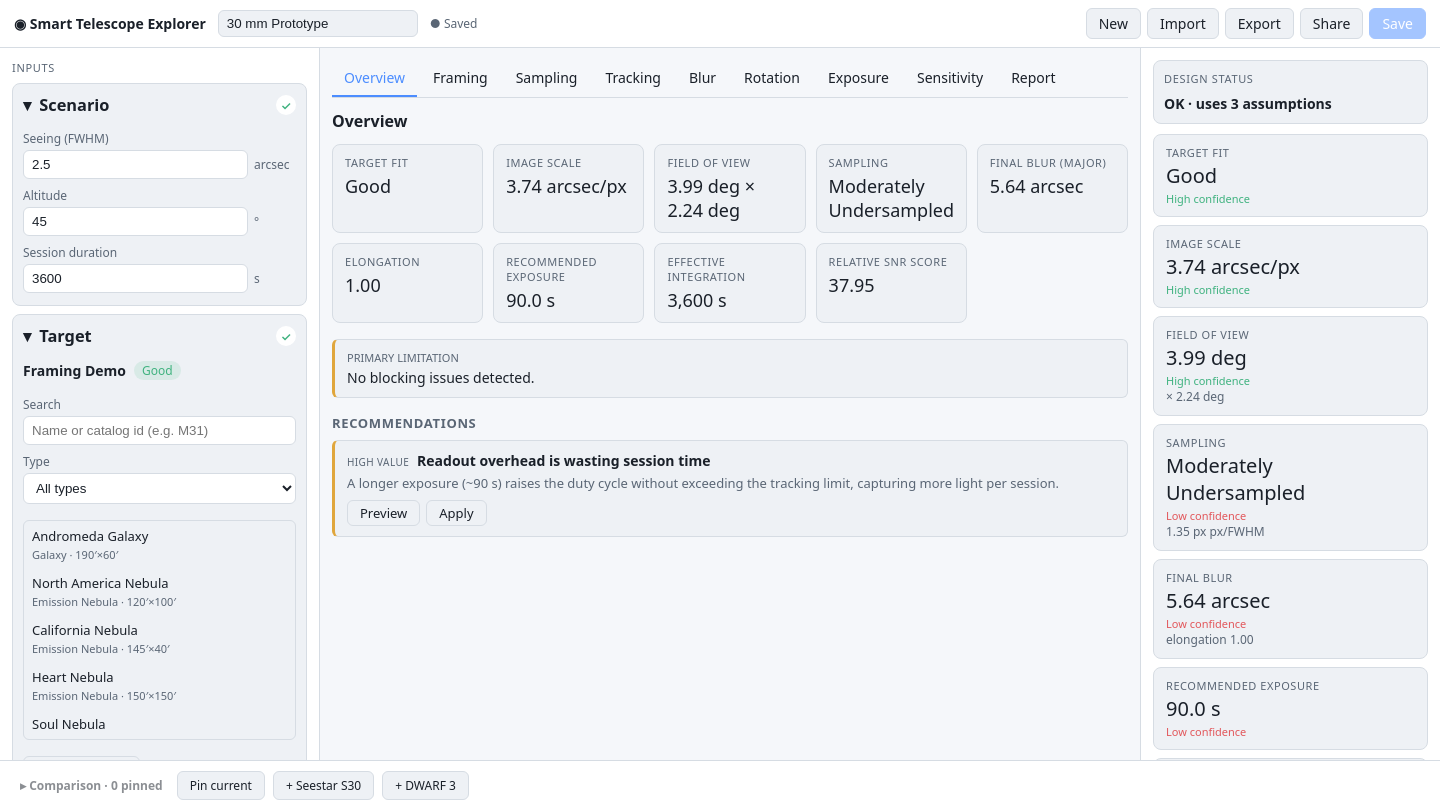
Test: target browser (#5, spec v0.7 §8/§23) › searches the catalog and selects a catalog target
The image size is (1440, 810).
Expected: the text "Andromeda Galaxy" is shown, [32, 527, 148, 545]
Search narrows by name/alias/id.
Type "M31" into the search field with placeholder "Name or catalog id (e.g. M31)" at (160, 430), box [23, 416, 296, 445]
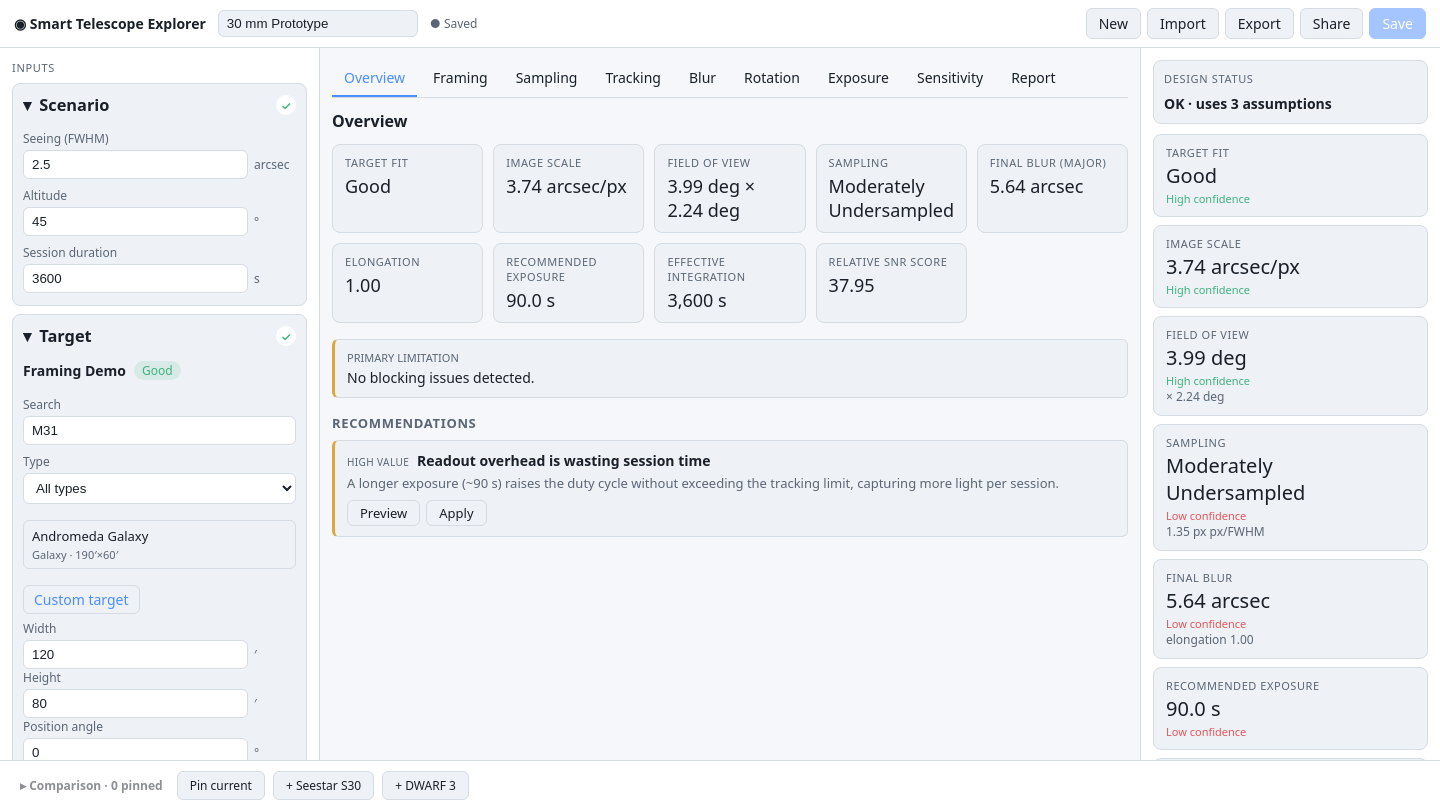
Click the text "Andromeda Galaxy" at (90, 536), box [32, 527, 148, 545]
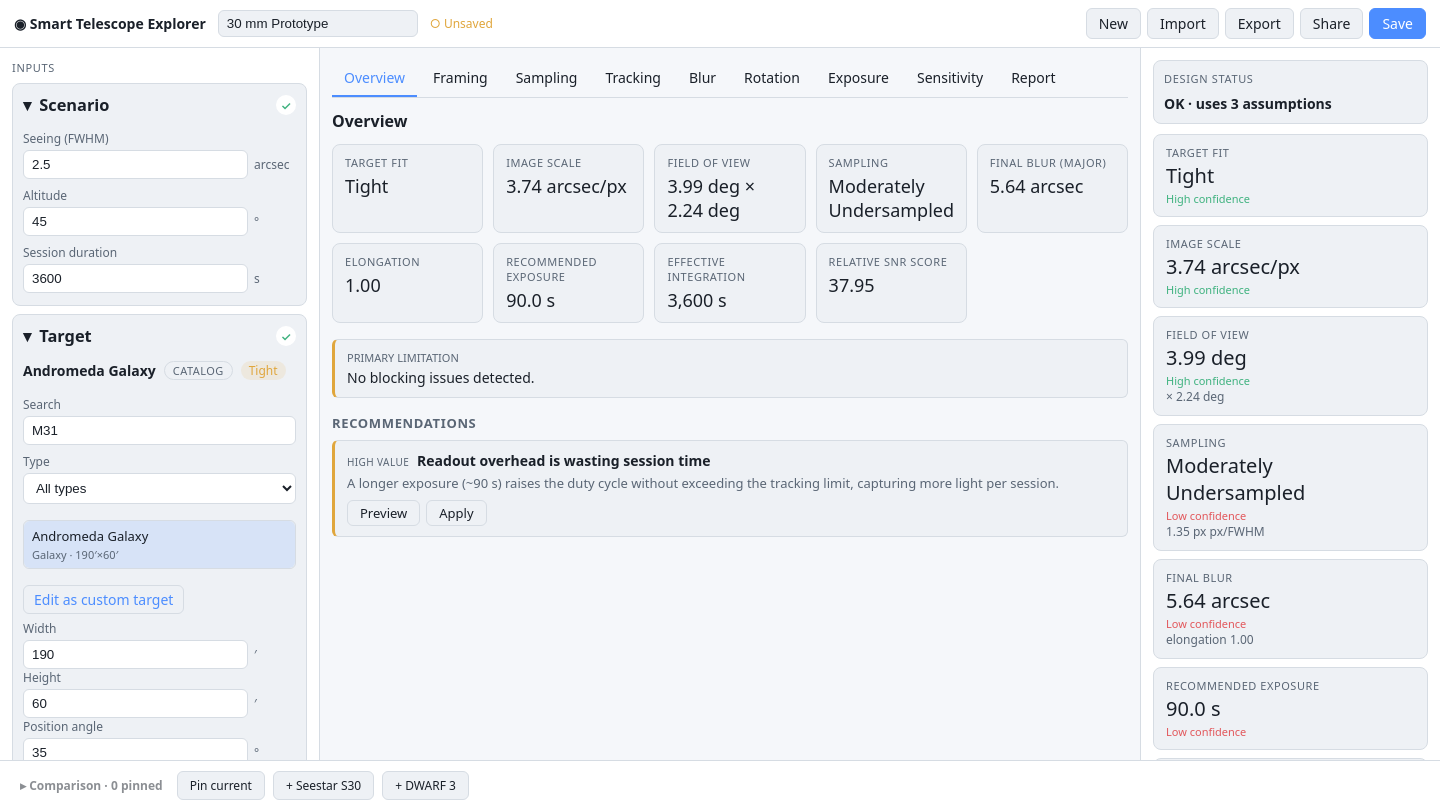
Expected: the text "Target fit" below "OK" is shown, [1166, 145, 1229, 160]
Expected: the text "Andromeda Galaxy" next to "catalog" is shown, [23, 361, 156, 380]
Expected: the text "catalog" is shown, [164, 361, 233, 380]
